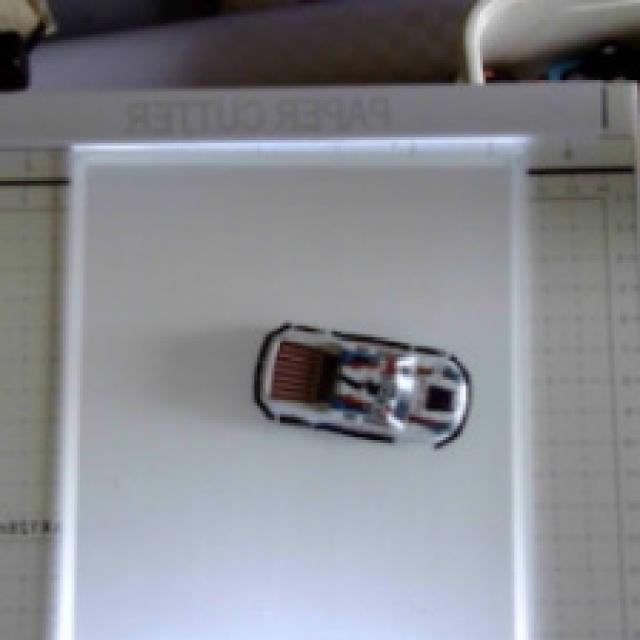Grey Car: (217, 285, 510, 469)
